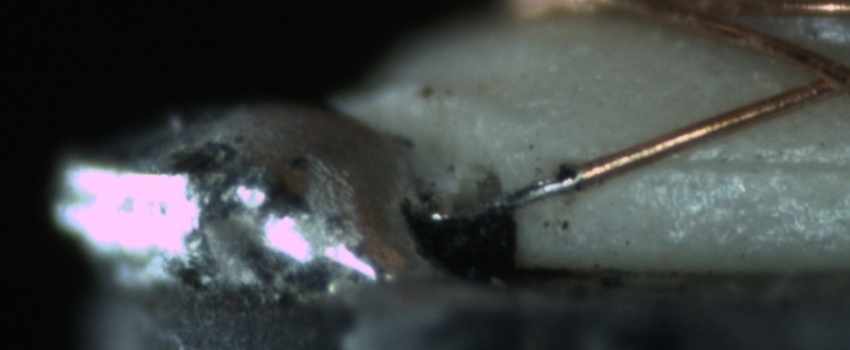CL: (792, 47, 850, 103)
DL: (638, 133, 849, 196)
TS: (426, 172, 578, 225)
